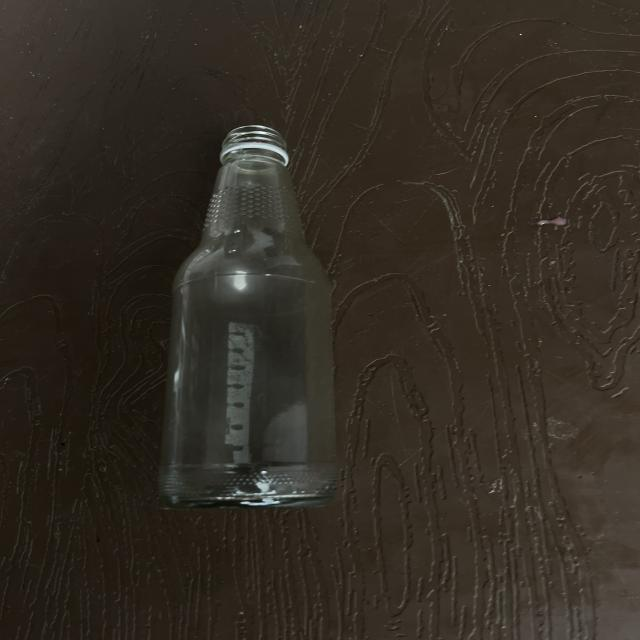Glass_Bottle: (160, 126, 336, 508)
